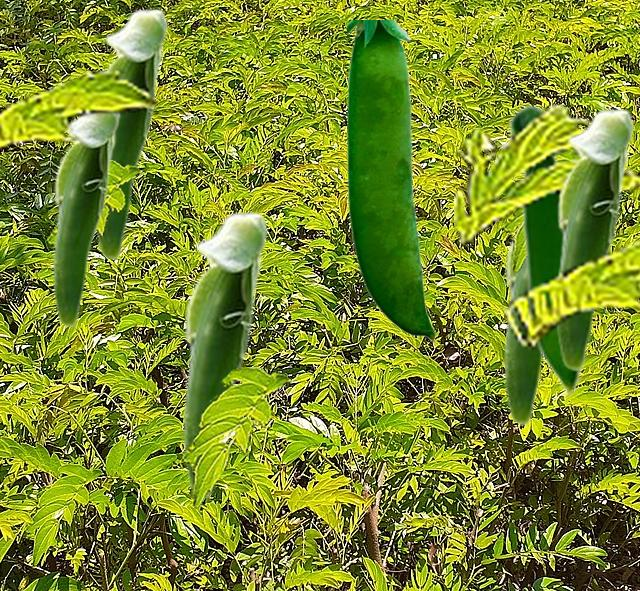pea: (347, 20, 435, 343), (182, 211, 268, 498), (506, 102, 584, 401), (555, 108, 634, 371), (94, 8, 168, 260), (52, 115, 120, 327), (503, 237, 545, 425)
